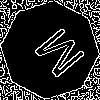M: (25, 25, 87, 87)
